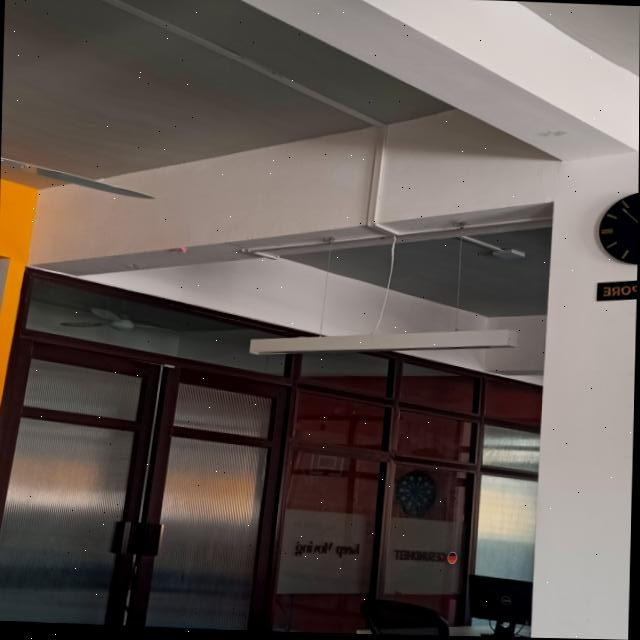fluorescent tube: (248, 316, 528, 370)
